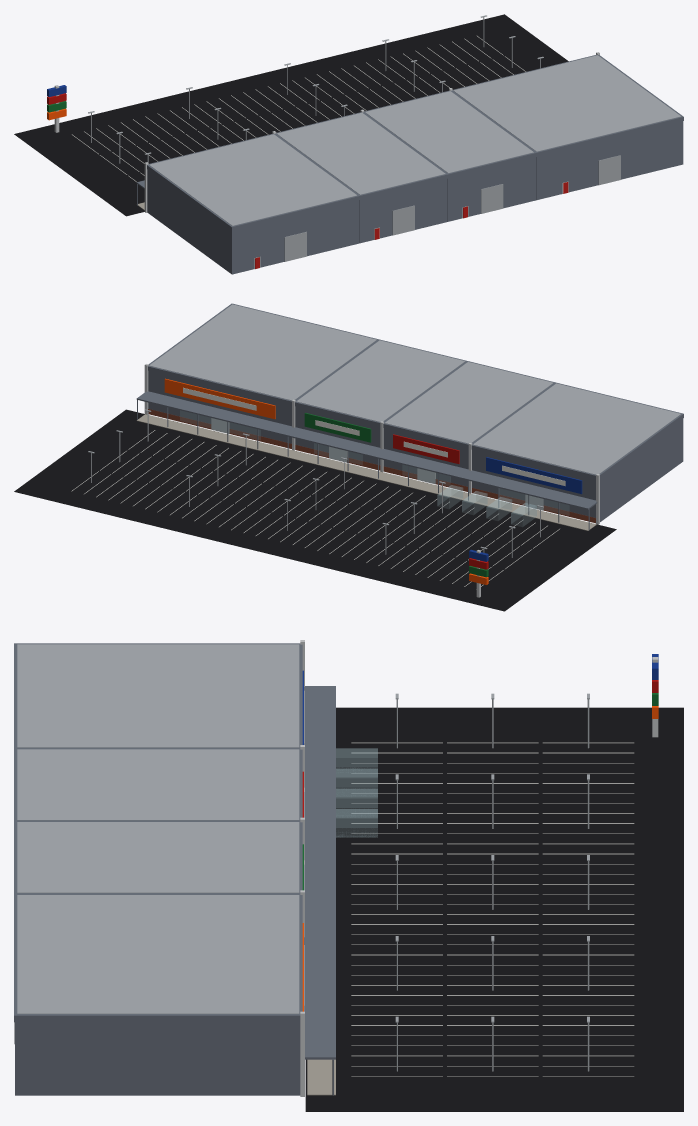
The model's file is context.type.retail_park.glb.
3 views of the same model, one above another, from view 1: azimuth 30°, elevation 25°; view 2: azimuth 150°, elevation 25°; view 3: azimuth 270°, elevation 25° (orthographic). The views are drawn at different scales.
Visible parts, largest first — view 1: roof__steel_galvanised, ground__asphalt, walls__steel_painted, roof__steel_painted, openings__steel_galvanised, ground__paint_white, ground__steel_galvanised; view 2: ground__asphalt, roof__steel_galvanised, walls__steel_painted, roof__steel_painted, ground__paving, ground__paint_white, openings__glass, openings__brick, ground__glass, openings__paint_white, openings__hivis_orange, openings__plastic_blue (+5 smaller); view 3: ground__asphalt, roof__steel_galvanised, walls__steel_painted, roof__steel_painted, ground__paint_white, ground__glass, ground__steel_galvanised, walls__aluminium, ground__paving.
Boxes of the visible parts, bbox=[...] form: roof__steel_galvanised: bbox=[149, 55, 680, 225]; ground__asphalt: bbox=[14, 14, 568, 216]; walls__steel_painted: bbox=[137, 121, 683, 274]; roof__steel_painted: bbox=[136, 54, 683, 230]; openings__steel_galvanised: bbox=[284, 155, 620, 261]; ground__paint_white: bbox=[72, 35, 525, 181]; ground__steel_galvanised: bbox=[88, 15, 543, 163]; ground__asphalt: bbox=[14, 409, 616, 611]; roof__steel_galvanised: bbox=[149, 304, 680, 474]; walls__steel_painted: bbox=[137, 370, 683, 530]; roof__steel_painted: bbox=[136, 303, 683, 509]; ground__paving: bbox=[136, 414, 596, 530]; ground__paint_white: bbox=[71, 430, 559, 586]; openings__glass: bbox=[180, 410, 569, 515]; openings__brick: bbox=[148, 409, 595, 523]; ground__glass: bbox=[437, 485, 536, 526]; openings__paint_white: bbox=[183, 387, 565, 486]; openings__hivis_orange: bbox=[164, 378, 275, 419]; openings__plastic_blue: bbox=[486, 457, 582, 494]; ground__asphalt: bbox=[305, 707, 683, 1111]; roof__steel_galvanised: bbox=[17, 644, 299, 1013]; walls__steel_painted: bbox=[15, 1022, 333, 1095]; roof__steel_painted: bbox=[14, 643, 335, 1059]; ground__paint_white: bbox=[351, 742, 634, 1076]; ground__glass: bbox=[336, 748, 377, 837]; ground__steel_galvanised: bbox=[395, 693, 589, 1071]; walls__aluminium: bbox=[300, 640, 658, 1096]; ground__paving: bbox=[307, 1059, 335, 1095].
Size of the model in its own units: 100 by 9.64 by 70.1.
